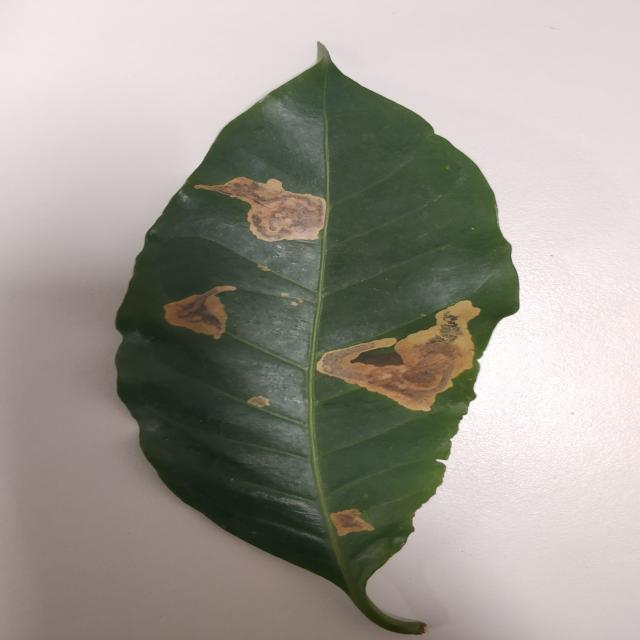Plaga-Minador: (113, 45, 520, 636)
